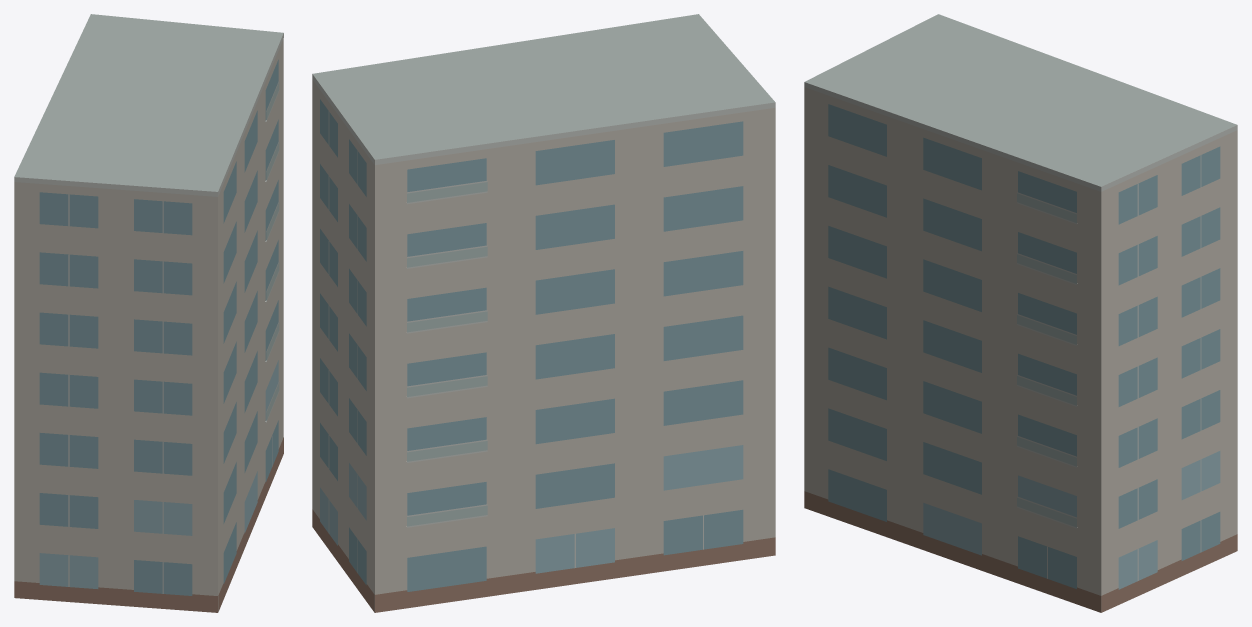
Rendered from survey-upis-32780941.glb.
3 renders of one model, left to right at view 1: azimuth 30°, elevation 25°; view 2: azimuth 150°, elevation 25°; view 3: azimuth 270°, elevation 25°, orthographic. The views are drawn at different scales.
Visible parts, largest first — view 1: survey-upis-32780941.tmp; view 2: survey-upis-32780941.tmp; view 3: survey-upis-32780941.tmp.
Part boxes in pixels (bbox=[...]): survey-upis-32780941.tmp: bbox=[14, 14, 283, 612]; survey-upis-32780941.tmp: bbox=[312, 14, 775, 612]; survey-upis-32780941.tmp: bbox=[804, 14, 1237, 612].
Bounding box in the file's own units: 18.02 × 20.7 × 19.09.
